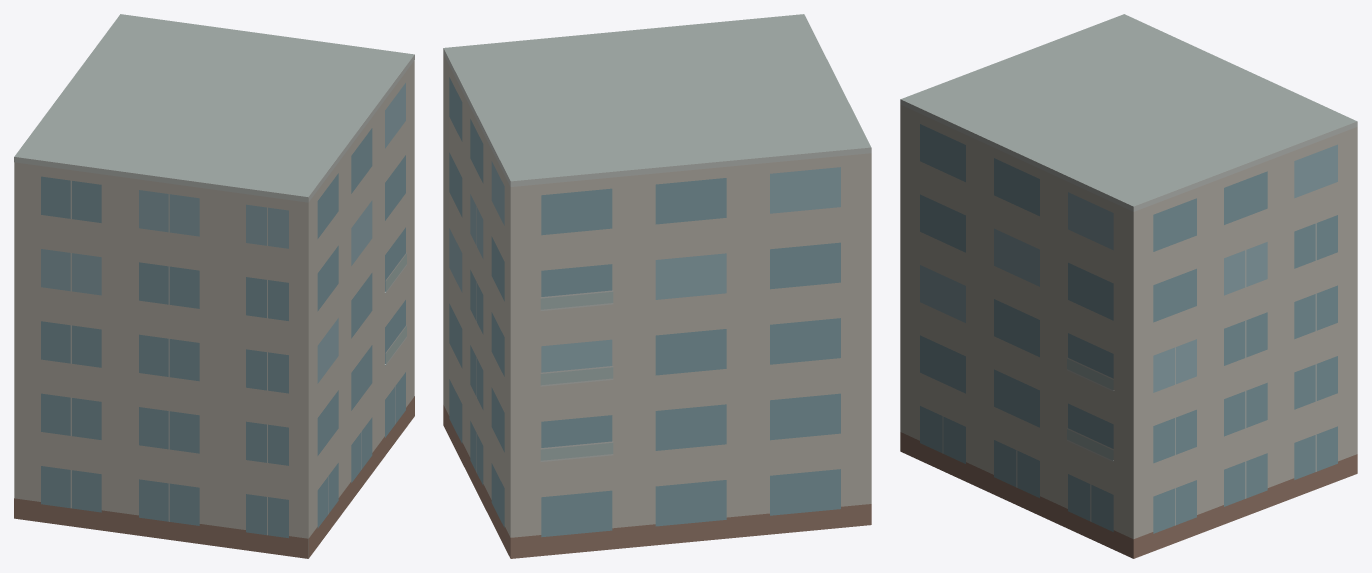
The model's file is survey-upis-33016859.glb.
The picture shows the model from 3 angles, left to right: view 1: azimuth 30°, elevation 25°; view 2: azimuth 150°, elevation 25°; view 3: azimuth 270°, elevation 25°; orthographic projection. The views are drawn at different scales.
Visible parts, largest first — view 1: survey-upis-33016859.tmp; view 2: survey-upis-33016859.tmp; view 3: survey-upis-33016859.tmp.
Boxes of the visible parts, <box> form: survey-upis-33016859.tmp: <box>14,14,414,558</box>; survey-upis-33016859.tmp: <box>443,14,871,558</box>; survey-upis-33016859.tmp: <box>900,14,1357,558</box>.
Bounding box in the file's own units: 18.95 × 16.15 × 19.
